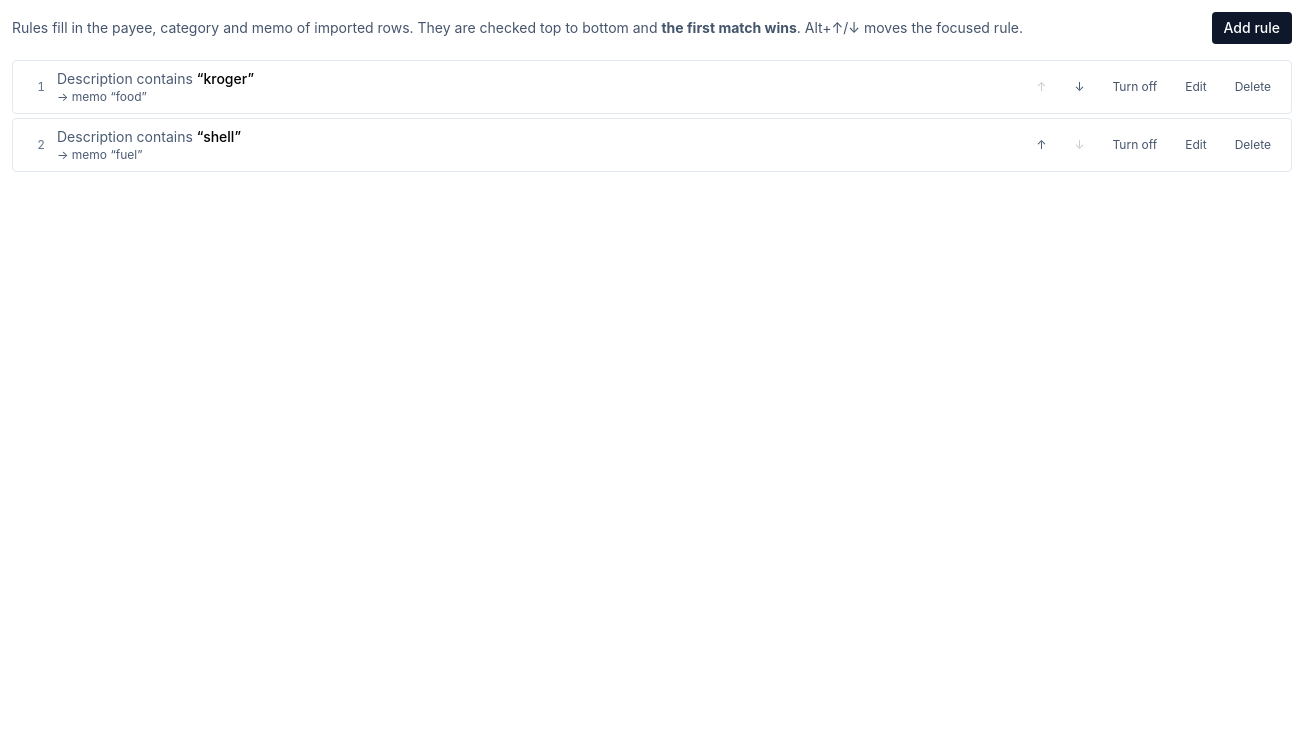
it: RulesSettingsPage › refuses a rule that does nothing
The width and height of the screenshot is (1304, 732).
Click the button "Add rule": [1252, 28] box [1212, 12, 1292, 44]
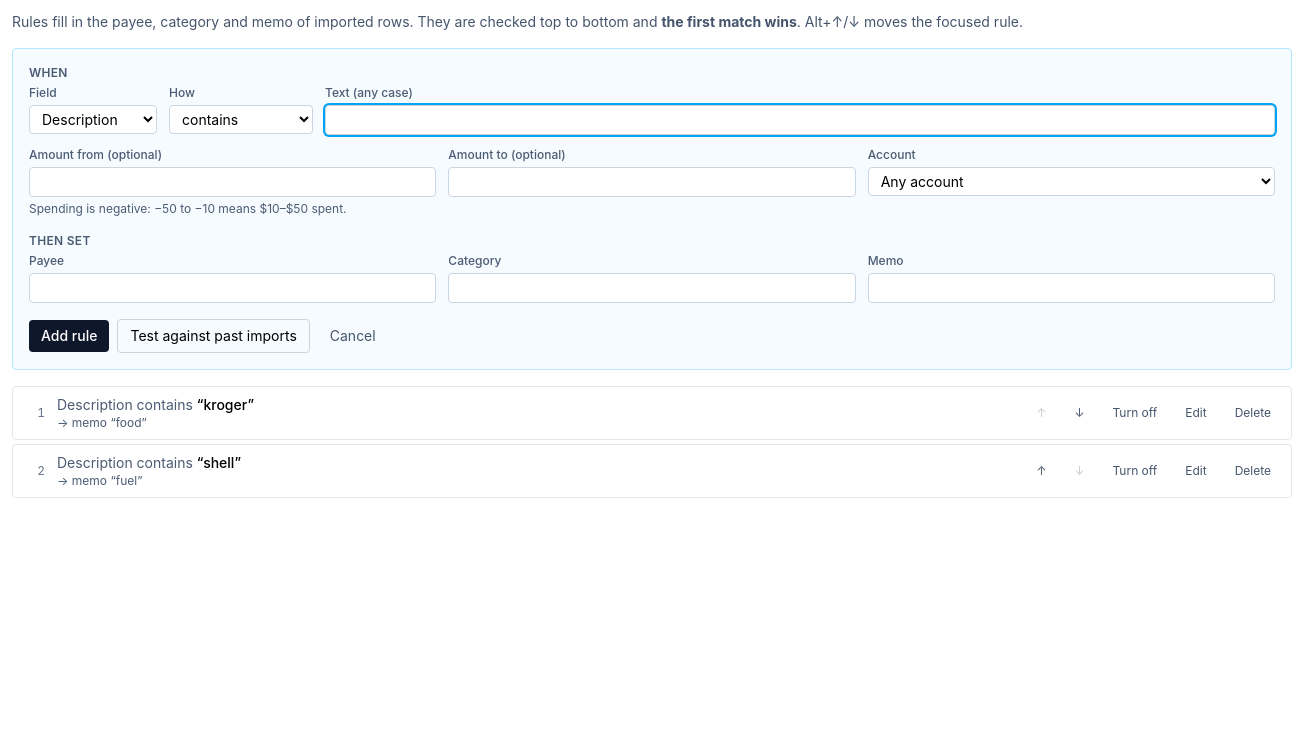
In the field named "Match text": [800, 120] box [325, 105, 1275, 135], type "kroger"
Then press Enter
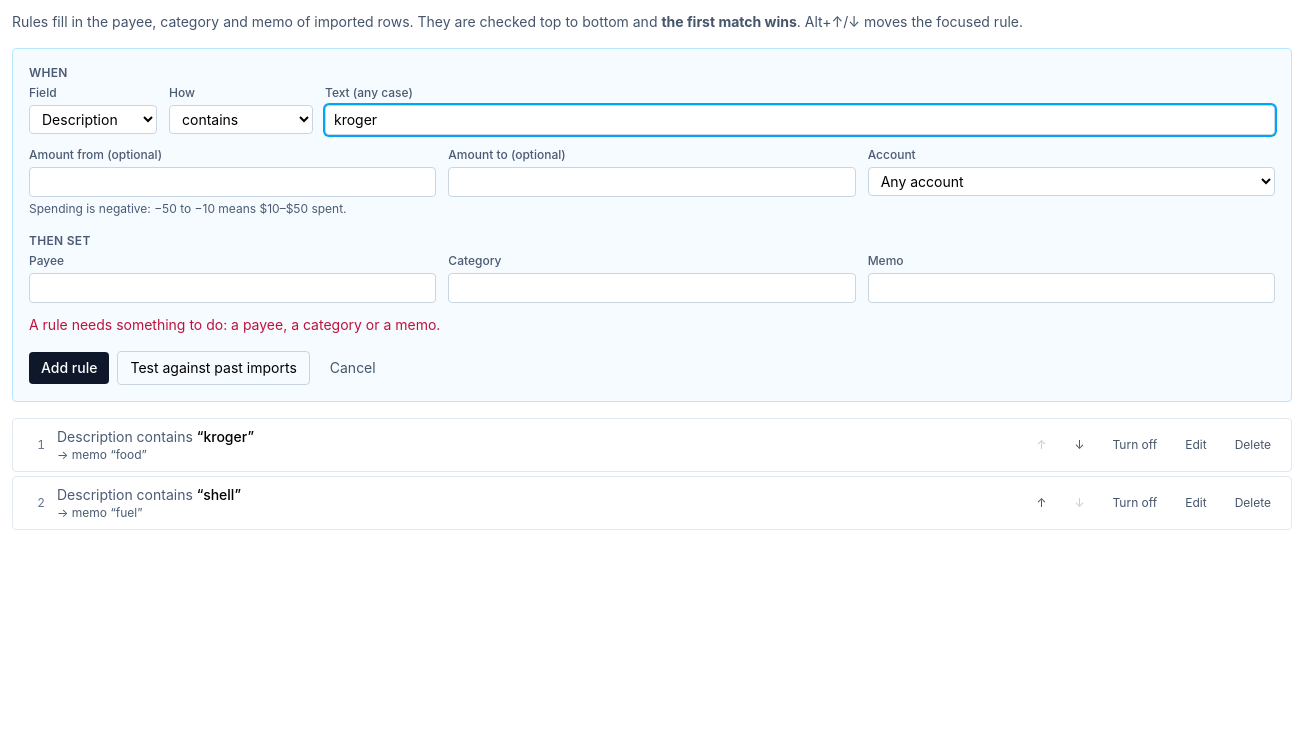
Now the message shows "needs something to do", box [29, 316, 440, 333]
